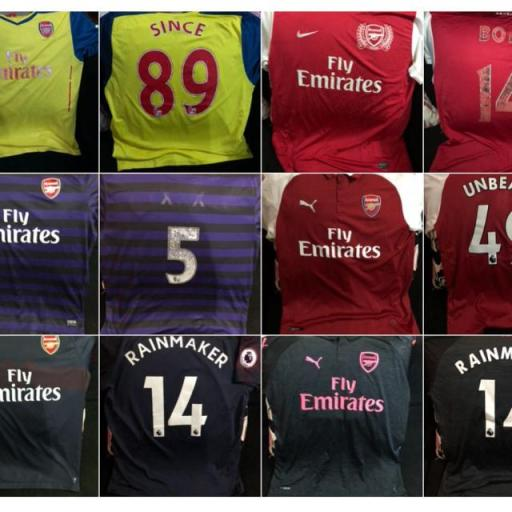Emirates: (295, 54, 383, 96), (299, 376, 386, 414), (296, 225, 382, 261), (0, 366, 66, 404), (0, 208, 63, 246)
